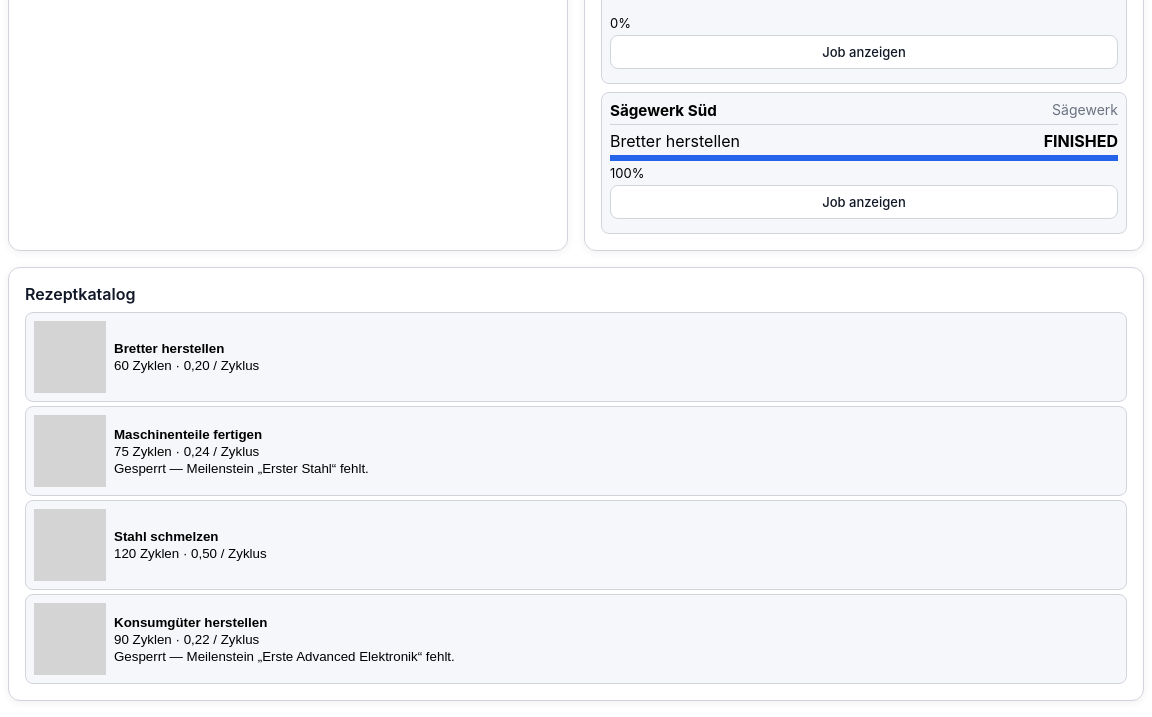
ProductionScreen › preserves Eingaben availability and Weiterverwendung when Herstellbar durch is shown
The image size is (1152, 717).
(page scrolled)
Click the button "Bretter herstellen 60 Zyklen · 0,20 / Zyklus" at [70, 357], box 25,312 -> 1127,402
(page scrolled)
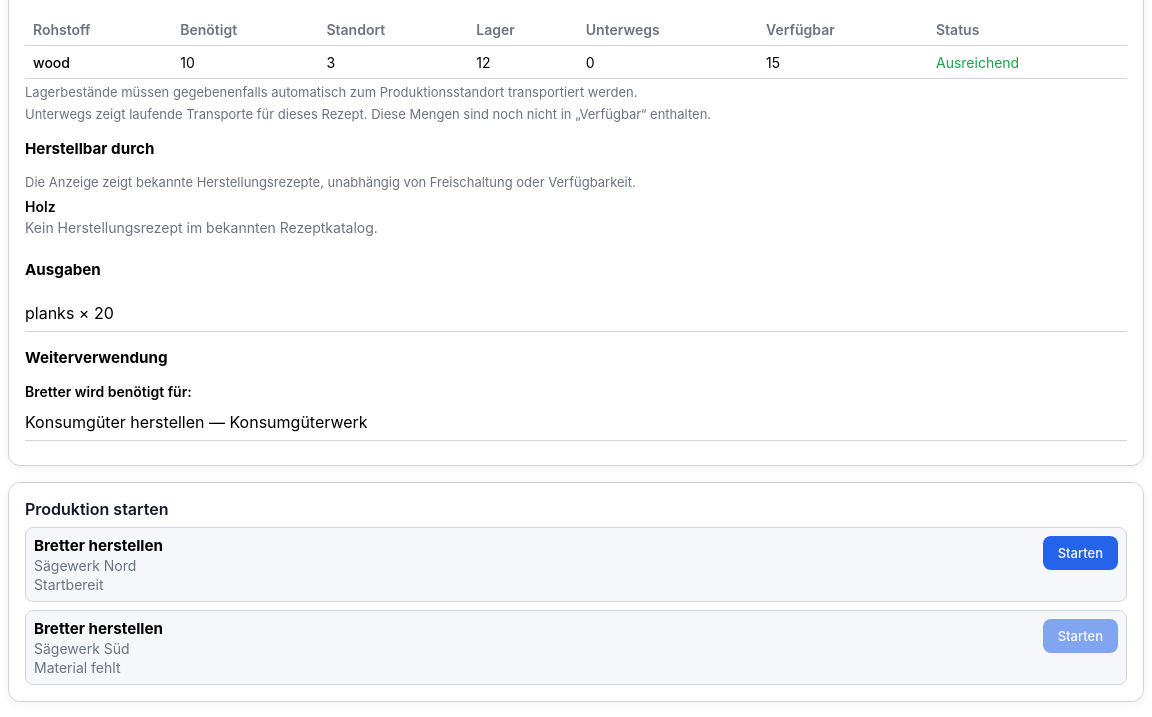
Expected: the table is shown, 25,14 -> 1127,79
Expected: the text "Ausgaben" is shown, 25,260 -> 101,279
Expected: the text "Weiterverwendung" is shown, 25,348 -> 168,367
